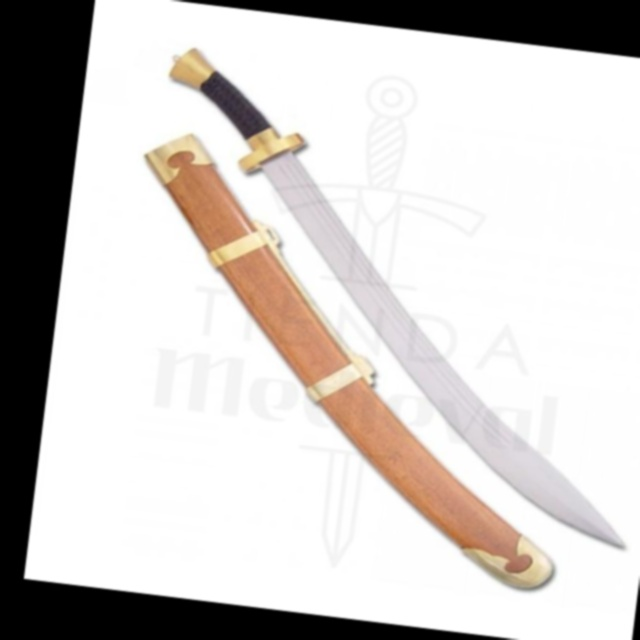Sharp-Object: (116, 40, 640, 553)
